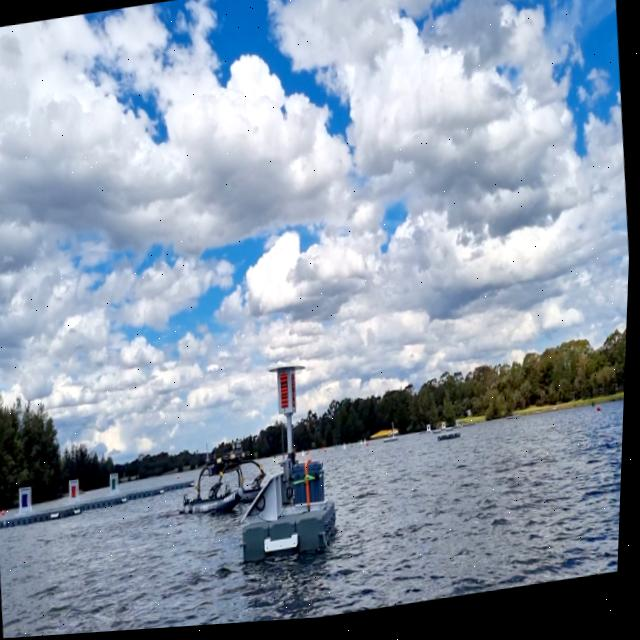led: (280, 375, 295, 415)
